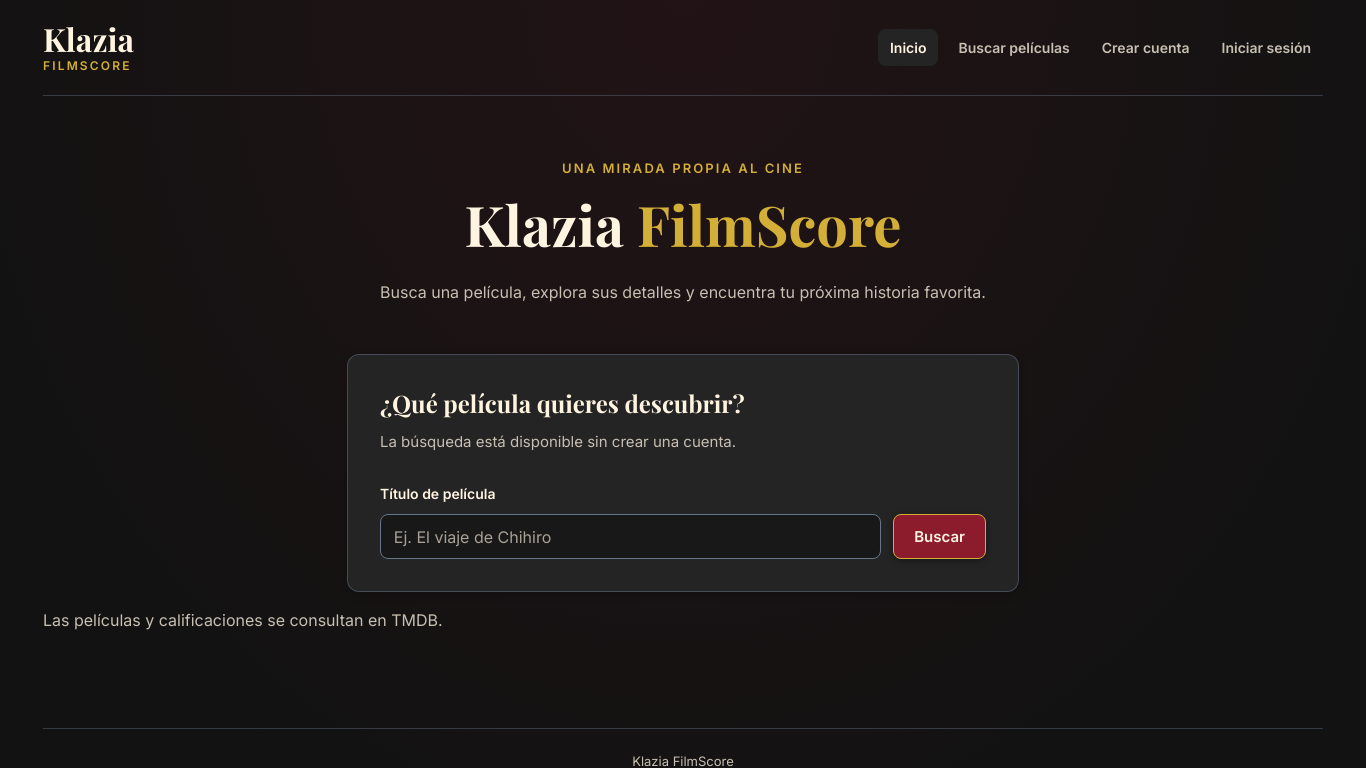
Test case: public application shell › keeps provider failure separate and retries only after a manual action
Step 1. Type "Película ficticia" into the search field labelled "Título de película" → [631, 537], box [380, 514, 881, 559]
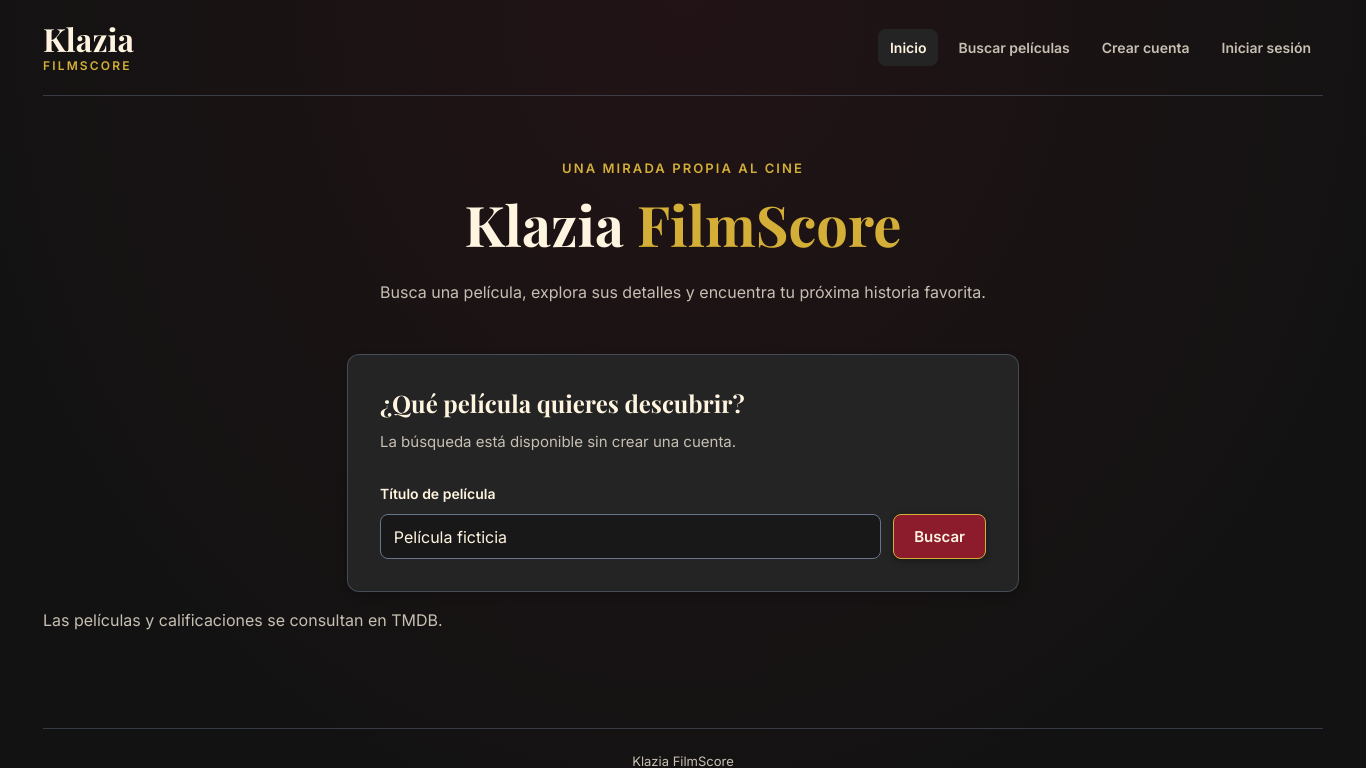
Step 2. Click the button "Buscar" → [940, 537], box [893, 514, 986, 559]
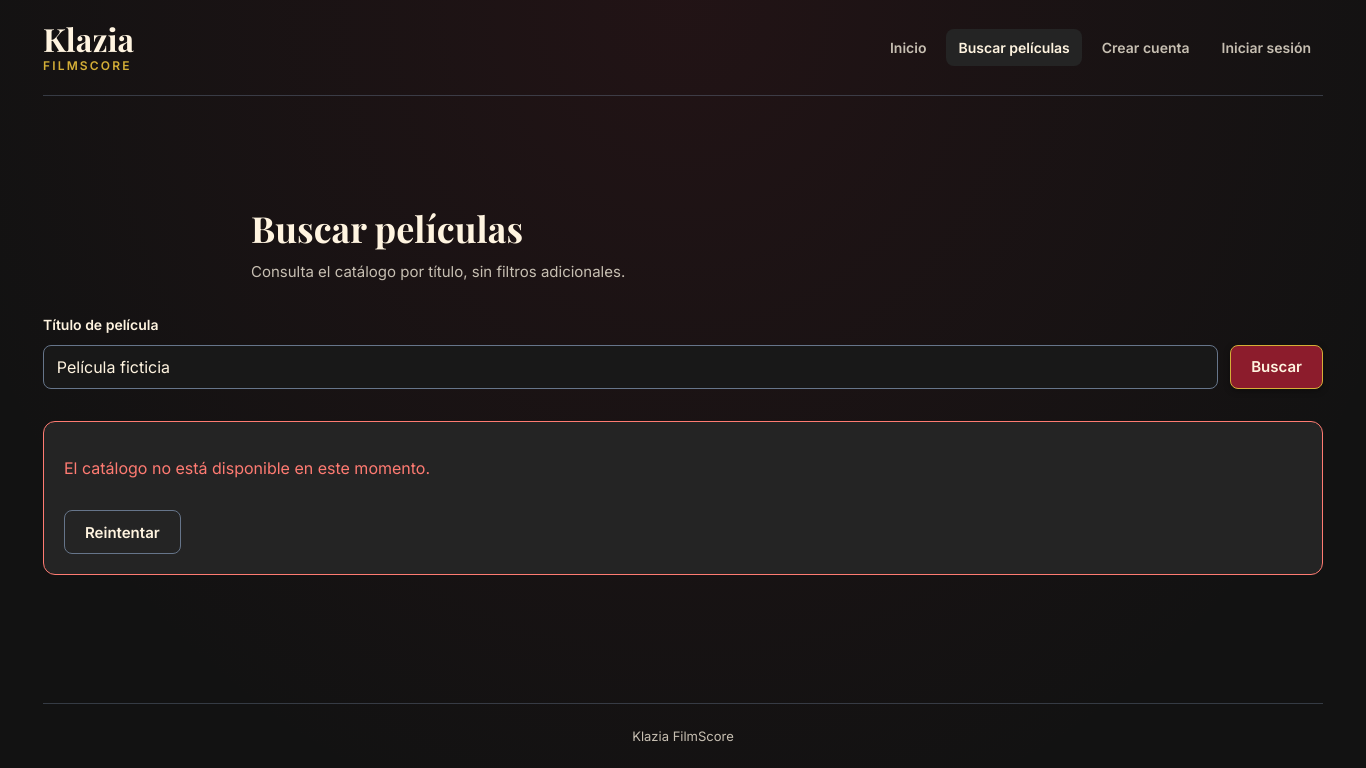
Now the message shows "El catálogo no está disponible", box [64, 458, 430, 478]
Step 3. Click the button "Reintentar" → [122, 532], box [64, 510, 181, 554]
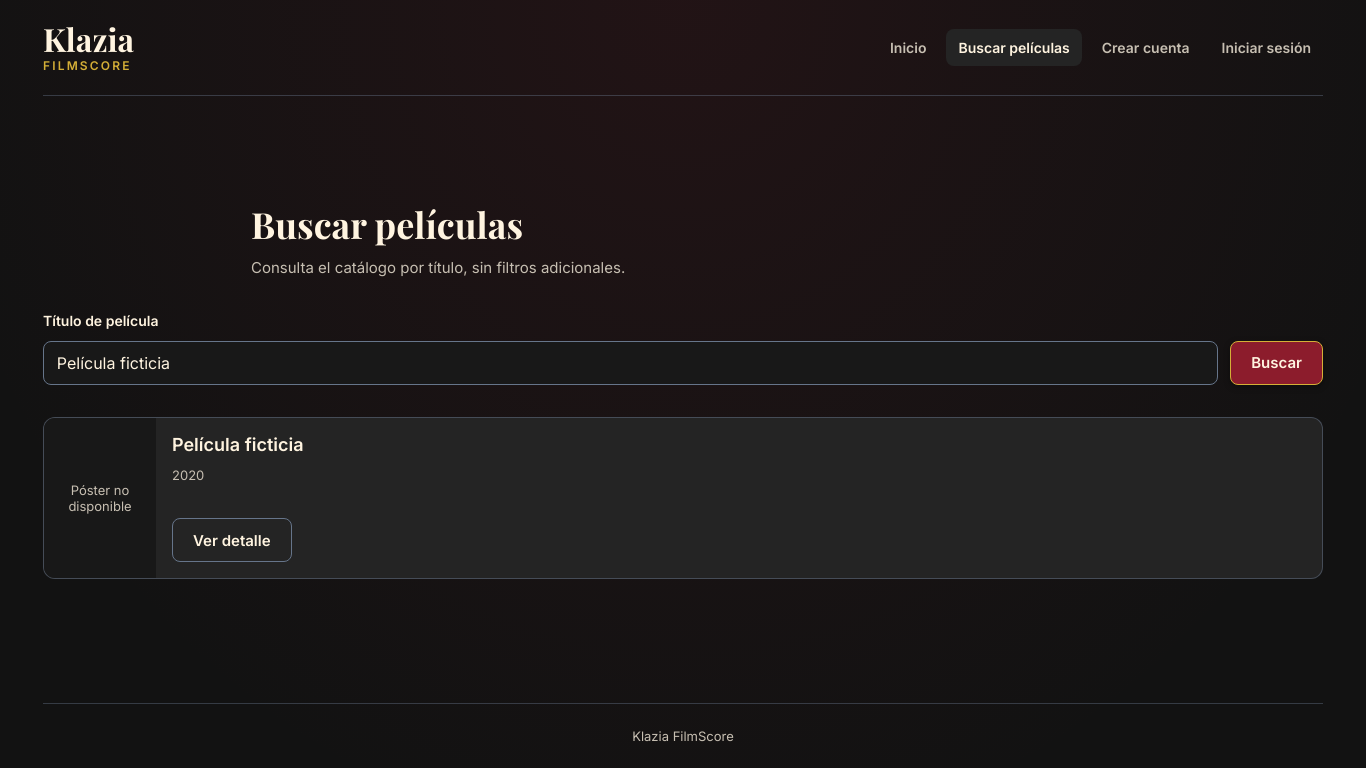
Now the heading "Película ficticia" is shown, box [172, 434, 304, 455]
